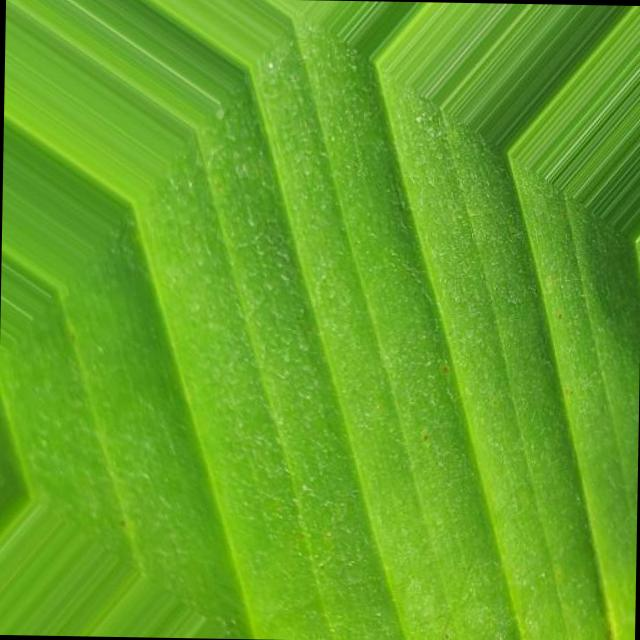Banana_Healthy: (170, 151, 580, 534)
